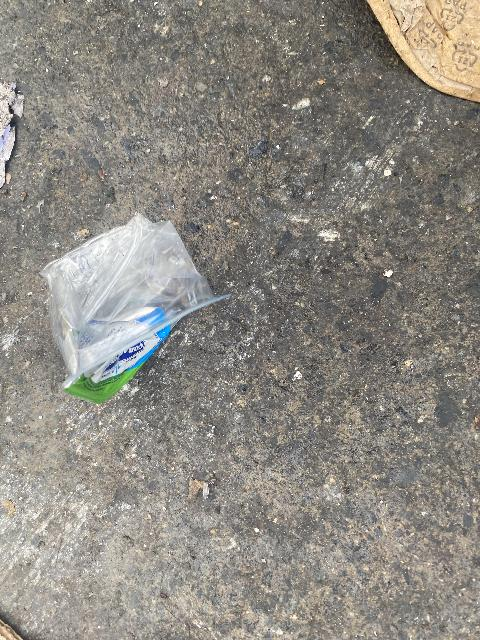Plastik: (51, 211, 237, 402)
